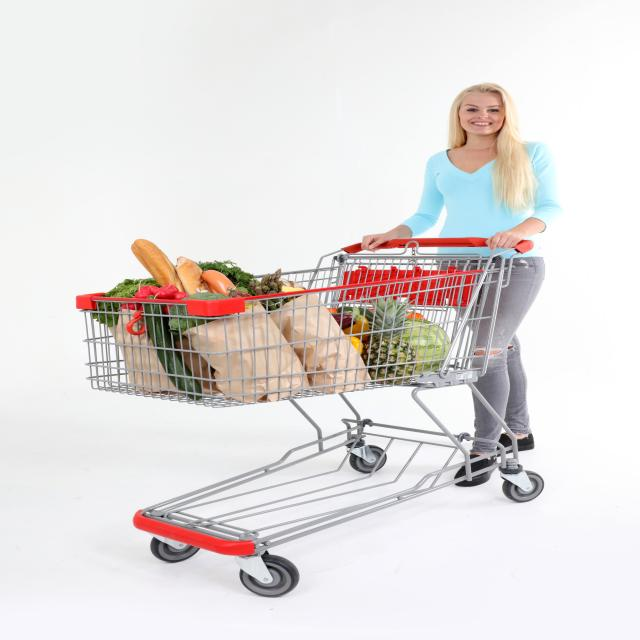Person: (364, 83, 557, 488)
